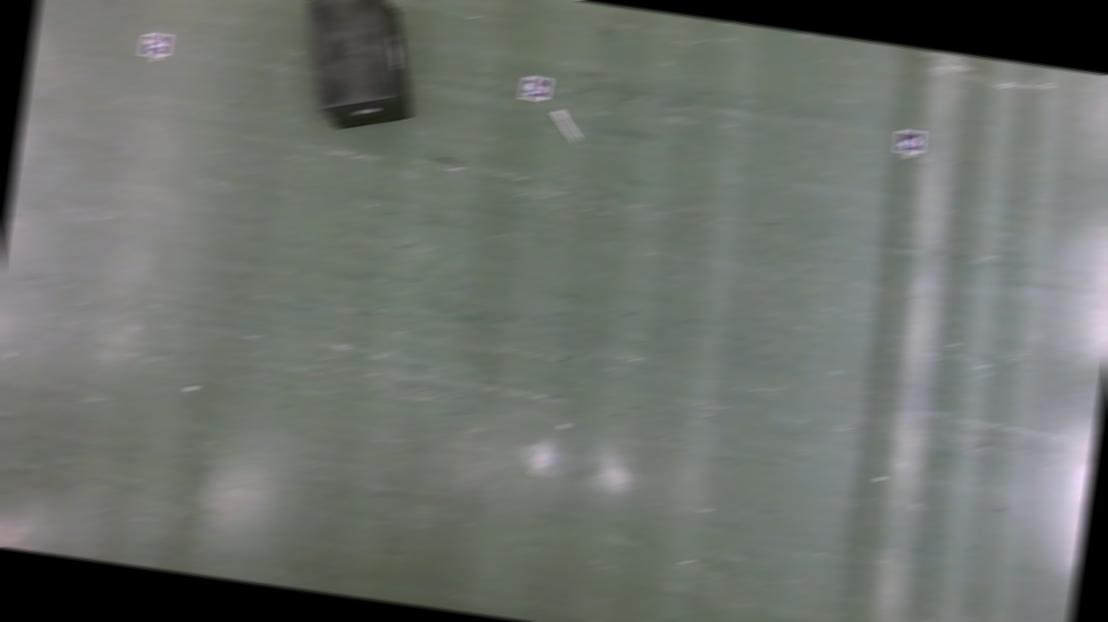probes: (548, 110, 584, 144)
rako: (288, 0, 428, 140)
